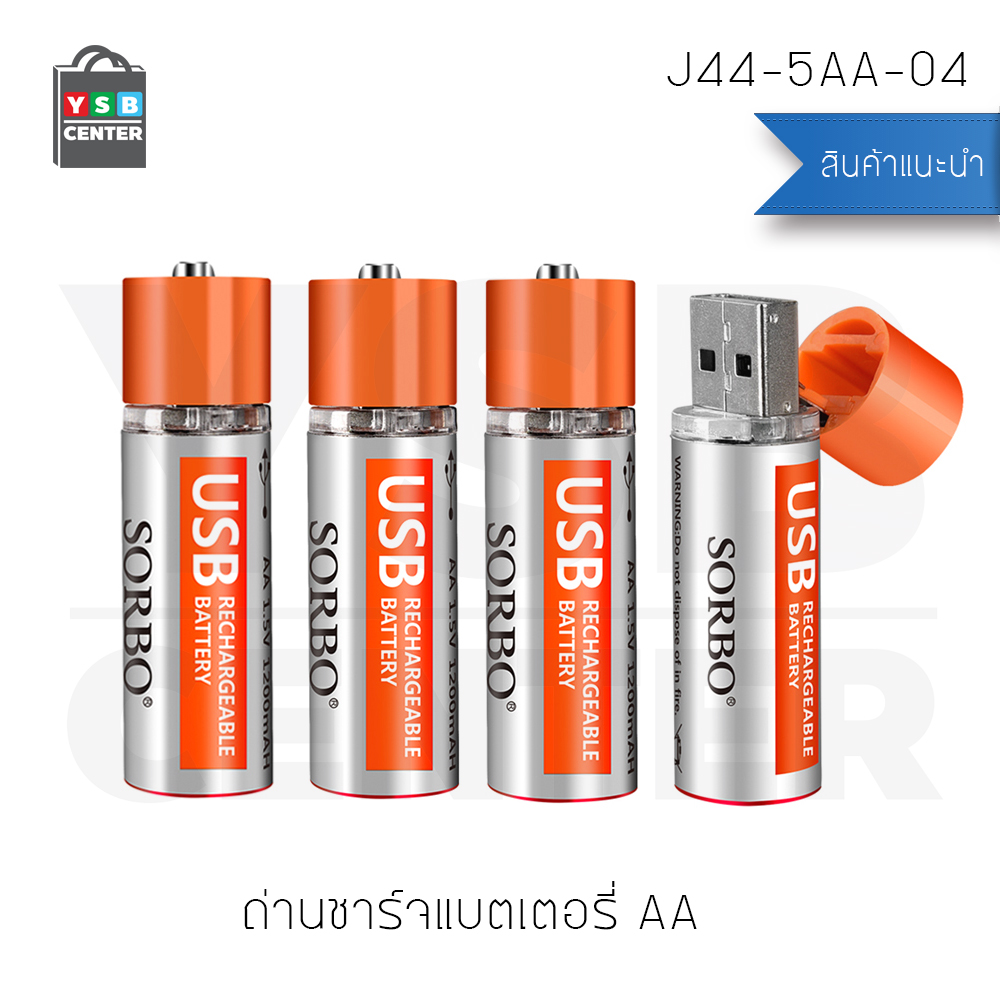Battery: (480, 261, 643, 806), (117, 257, 276, 800), (306, 261, 463, 802)
